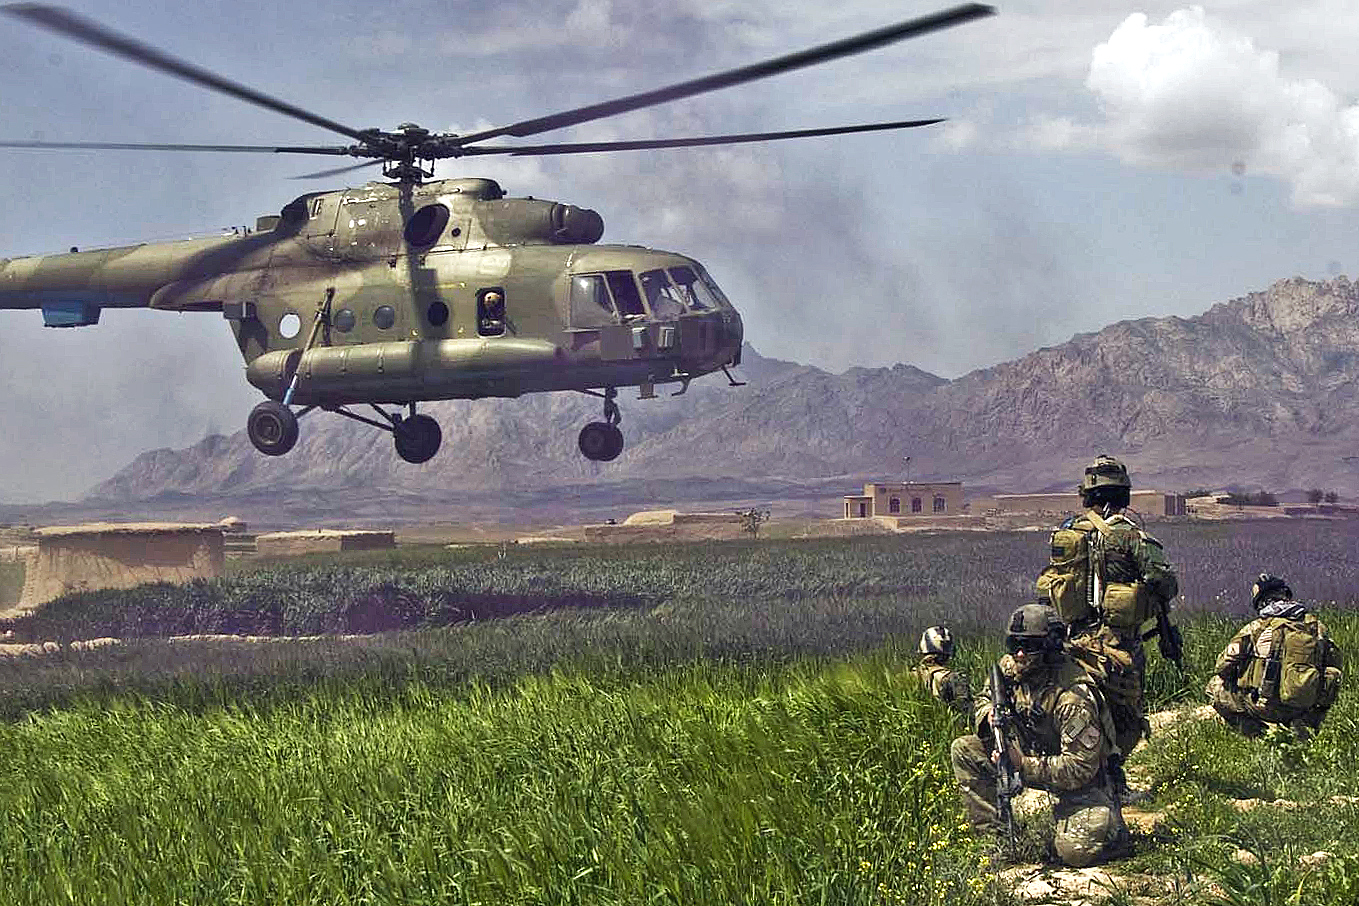MilitaryHelicopter: (35, 106, 784, 474)
